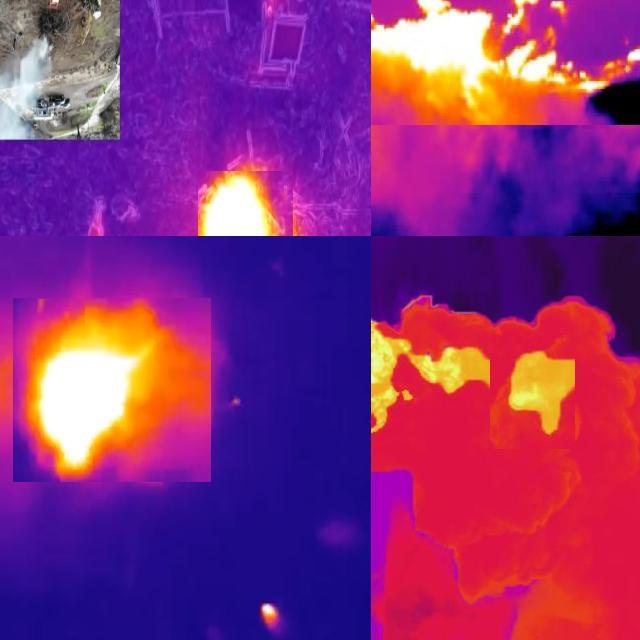fire: (14, 299, 212, 483), (372, 1, 640, 126), (491, 336, 576, 450), (199, 172, 294, 237), (408, 327, 478, 403), (372, 303, 406, 445), (260, 601, 284, 632)
